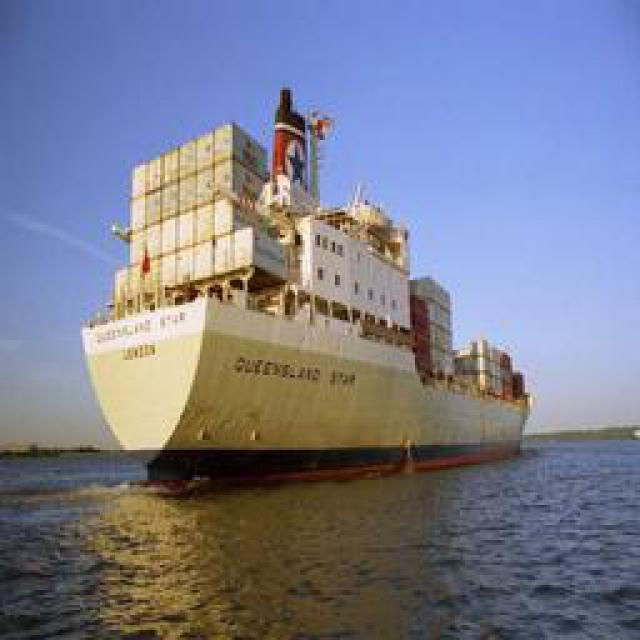Ship: (87, 85, 540, 475)
